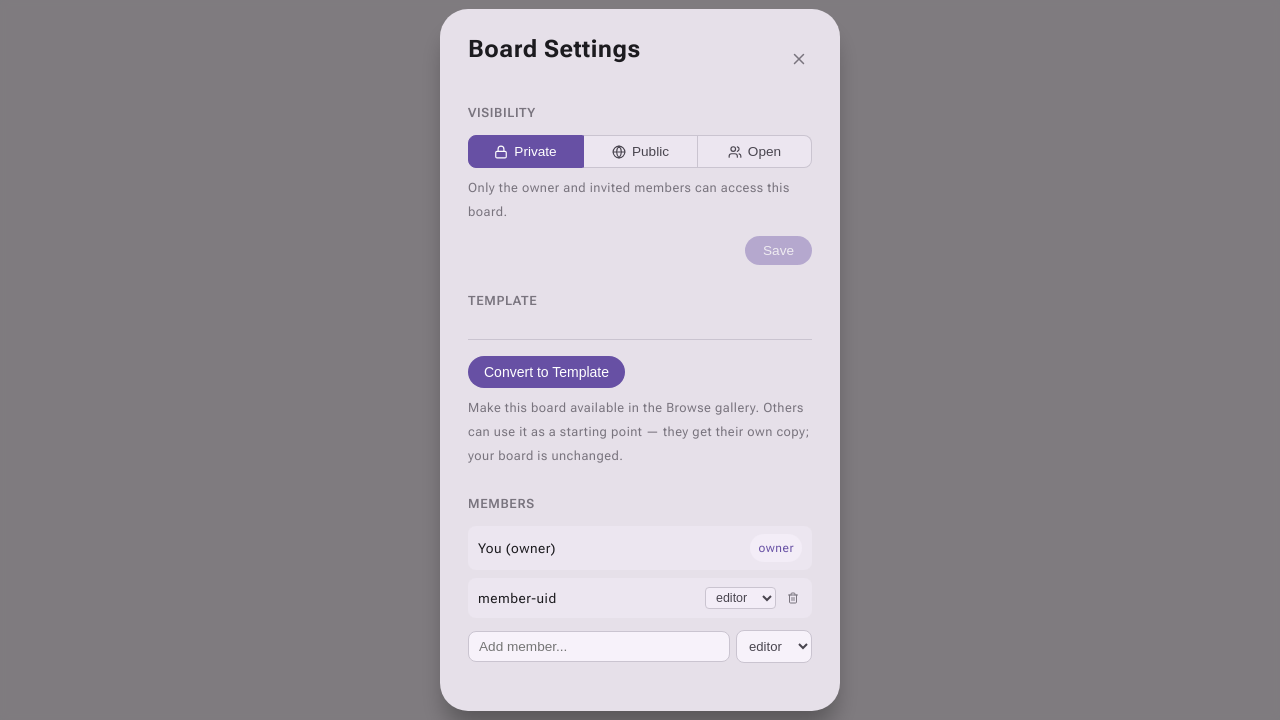
it: BoardSettings — member search Firestore query › filters out existing board members from results
Type "e" into the field with placeholder "Add member..." at x=599, y=646, box x1=468 y1=631 x2=730 y2=662
Wait 300 ms
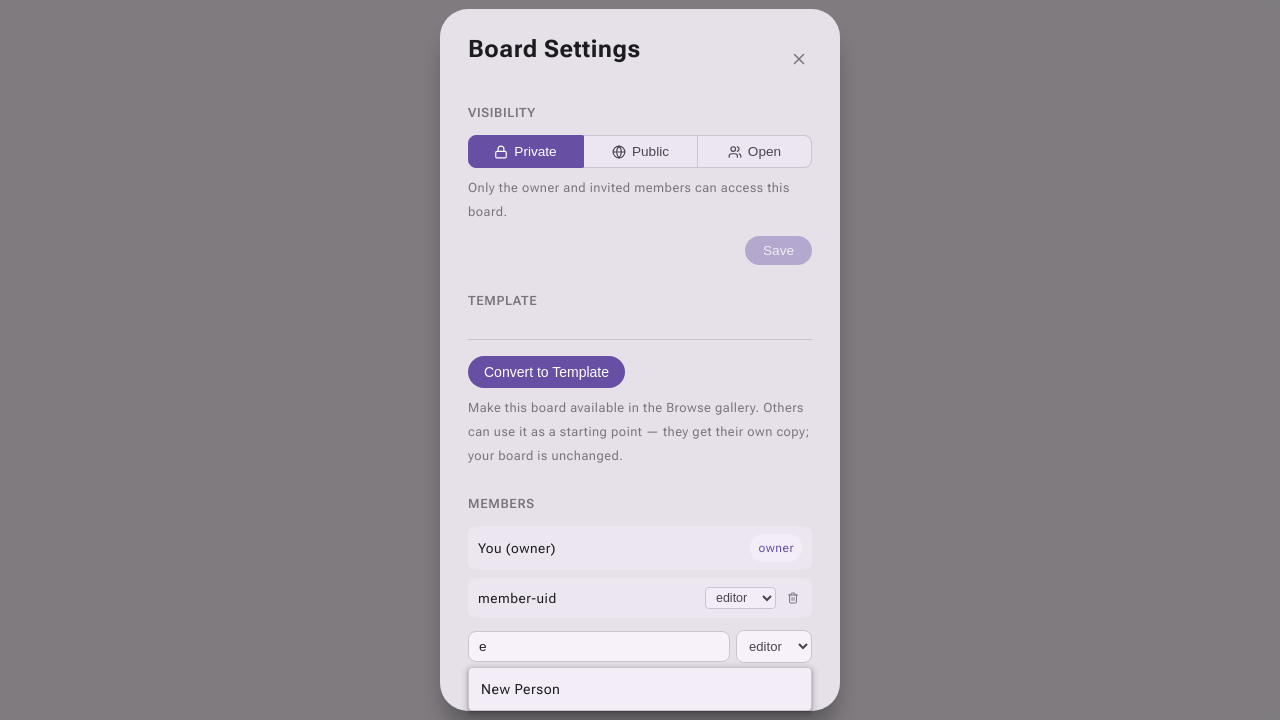
Result: the text "New Person" is shown at x1=481 y1=677 x2=560 y2=701
